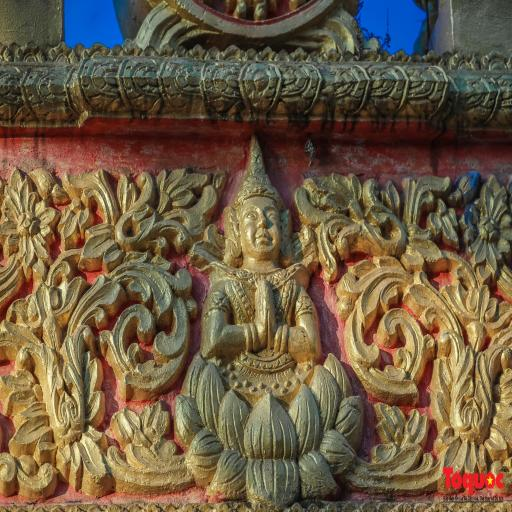hoa: (2, 175, 62, 275), (463, 176, 512, 281)
la: (2, 254, 186, 494), (331, 257, 512, 498), (115, 158, 214, 260)
than: (199, 126, 323, 403)
